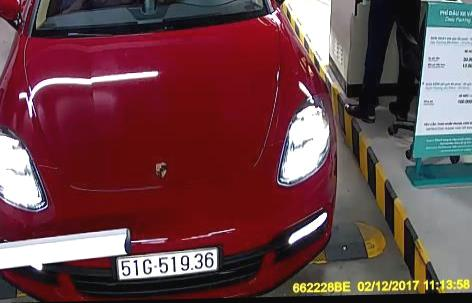License_Plate: (112, 249, 226, 276)
